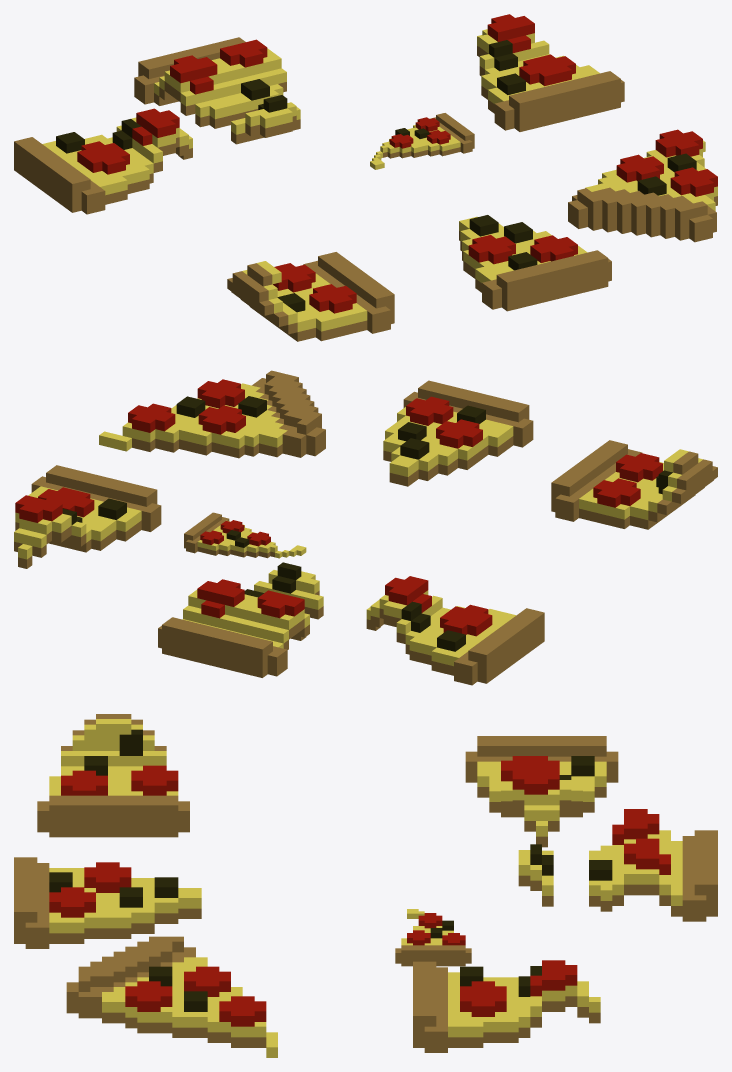
Rendered from pizza_farm-1.obj.
3 views of the same model, one above another, from view 1: azimuth 30°, elevation 25°; view 2: azimuth 150°, elevation 25°; view 3: azimuth 270°, elevation 25° (orthographic). The views are drawn at different scales.
Parts seen in each view (by area): view 1: pizza_farm-1; view 2: pizza_farm-1; view 3: pizza_farm-1.
Part boxes in pixels (box(x1,y1,x2,y2)): pizza_farm-1: box(14, 14, 717, 341); pizza_farm-1: box(14, 370, 717, 685); pizza_farm-1: box(14, 714, 717, 1057).
Bounding box in the file's own units: 117 × 12 × 120.
Materials: 1 (1 with a texture image).
